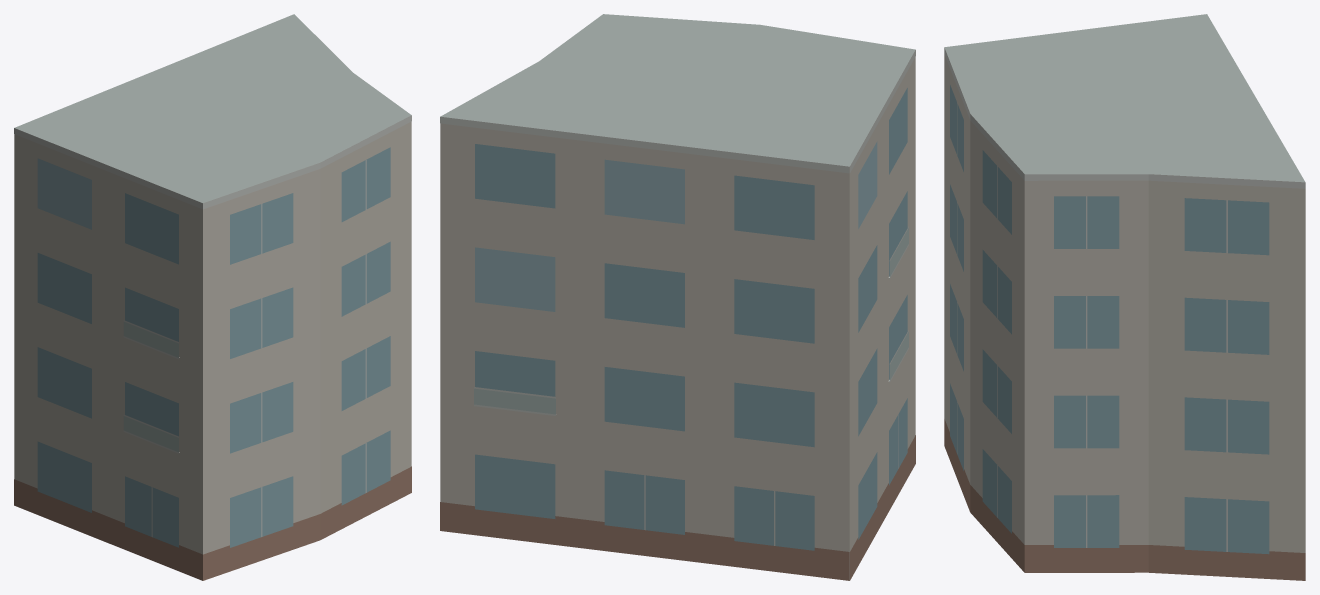
File: survey-upis-32779837.glb
3 views of the same model, side by side, from view 1: azimuth 30°, elevation 25°; view 2: azimuth 150°, elevation 25°; view 3: azimuth 270°, elevation 25° (orthographic). The views are drawn at different scales.
Parts seen in each view (by area): view 1: survey-upis-32779837.tmp; view 2: survey-upis-32779837.tmp; view 3: survey-upis-32779837.tmp.
Part boxes in pixels (x1=…): survey-upis-32779837.tmp: x1=14, y1=14, x2=411, y2=580; survey-upis-32779837.tmp: x1=440, y1=14, x2=915, y2=580; survey-upis-32779837.tmp: x1=944, y1=14, x2=1305, y2=580.
Size of the model in its own units: 13.51 by 14.9 by 12.25.
